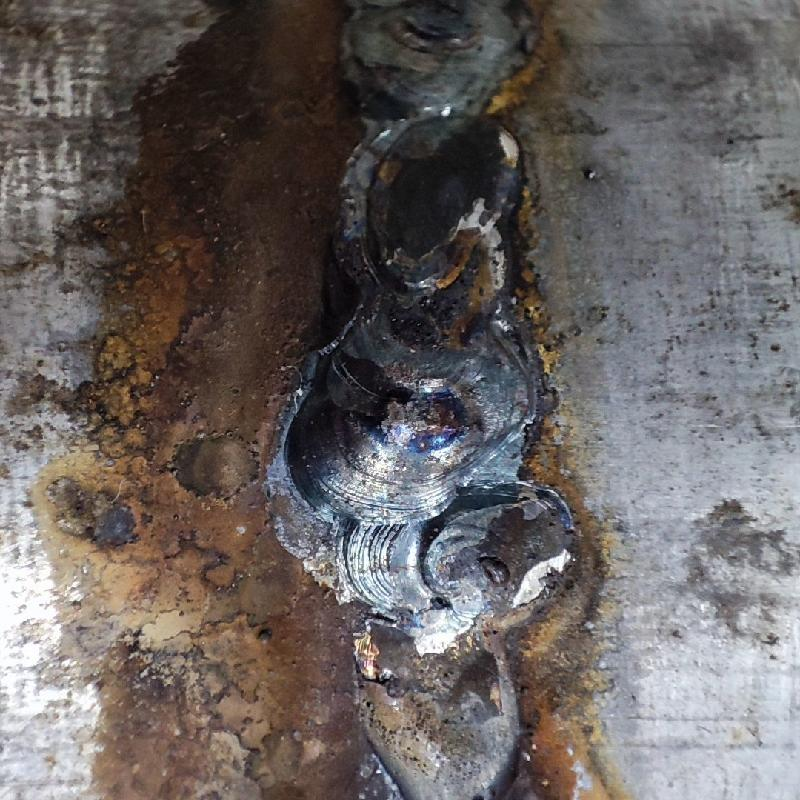Not_fully_soldered: (333, 2, 530, 375), (340, 517, 533, 797)
wrong_size: (292, 363, 543, 520)
